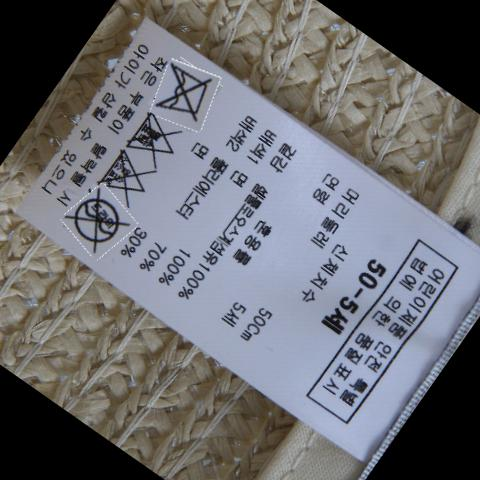DN_bleach: (97, 149, 151, 192)
DN_dry_clean: (67, 188, 128, 248)
DN_wash: (157, 66, 217, 114)
non_chlorine_bleach: (128, 114, 179, 154)
